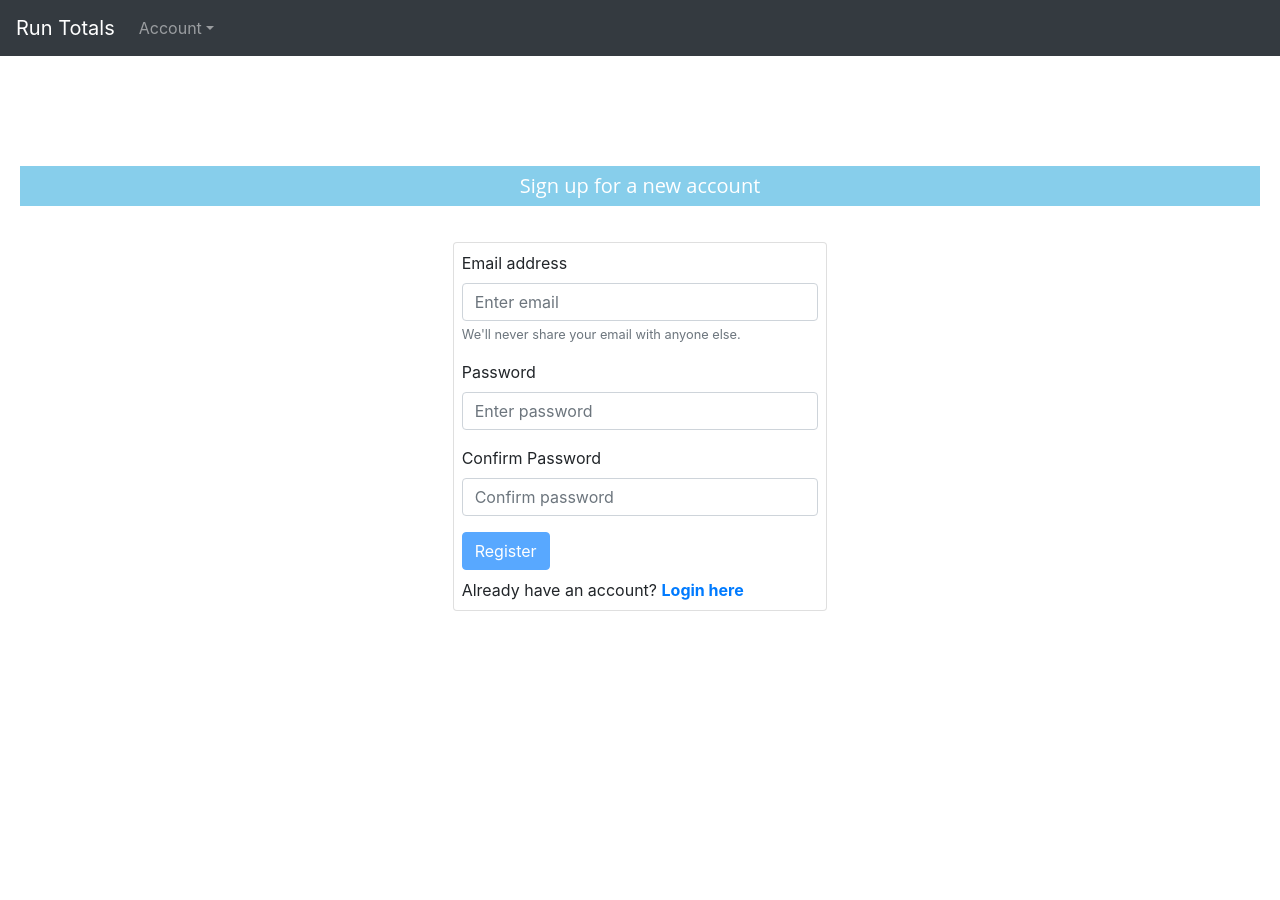
Test case: Register page tests › Server side validation › should show server error message
The width and height of the screenshot is (1280, 900).
Type "valid@email.com" into the field with test id "email-input" at (640, 302), box [462, 283, 818, 321]
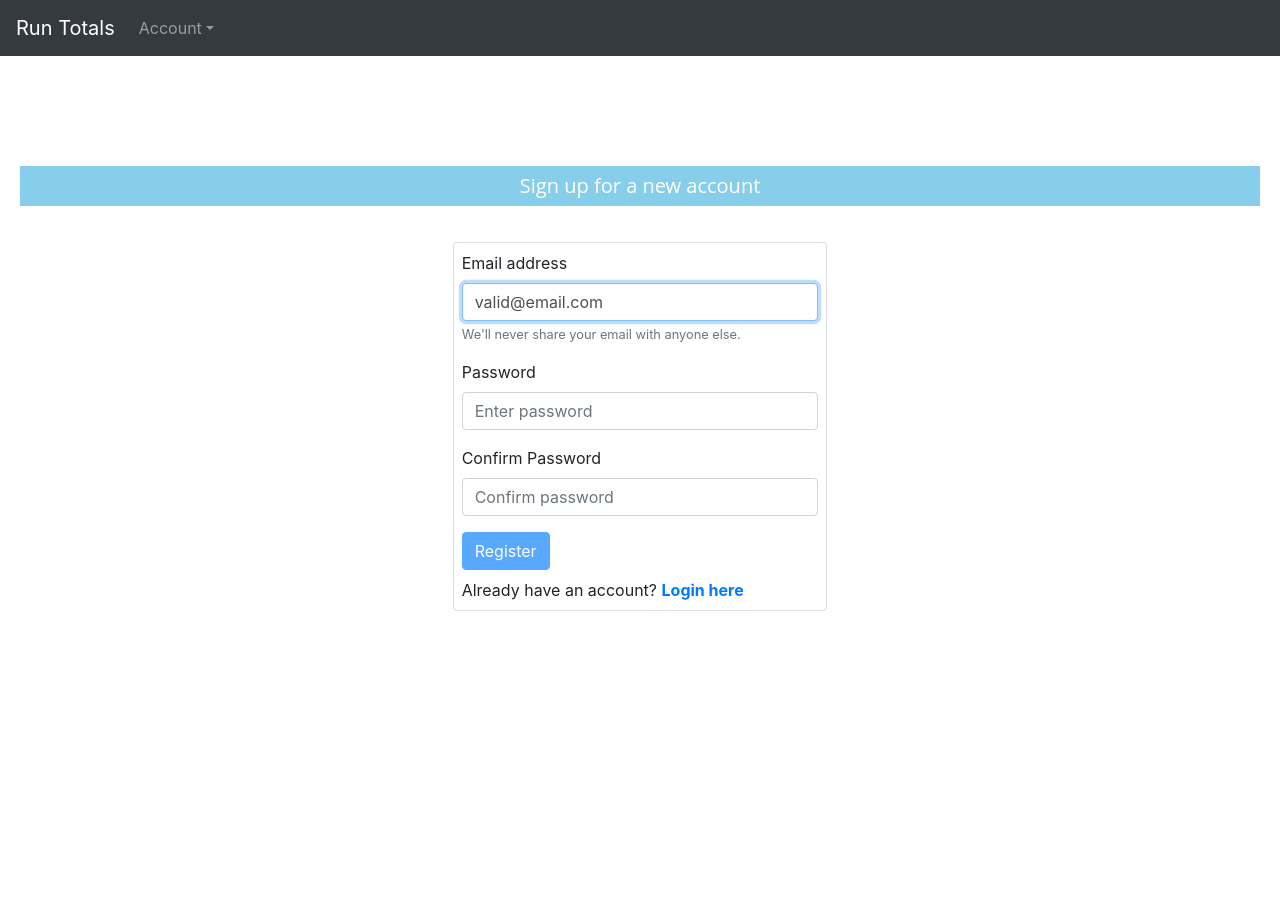
Type "validPassw0rd" into the password field with test id "password-input" at (640, 411), box [462, 392, 818, 430]
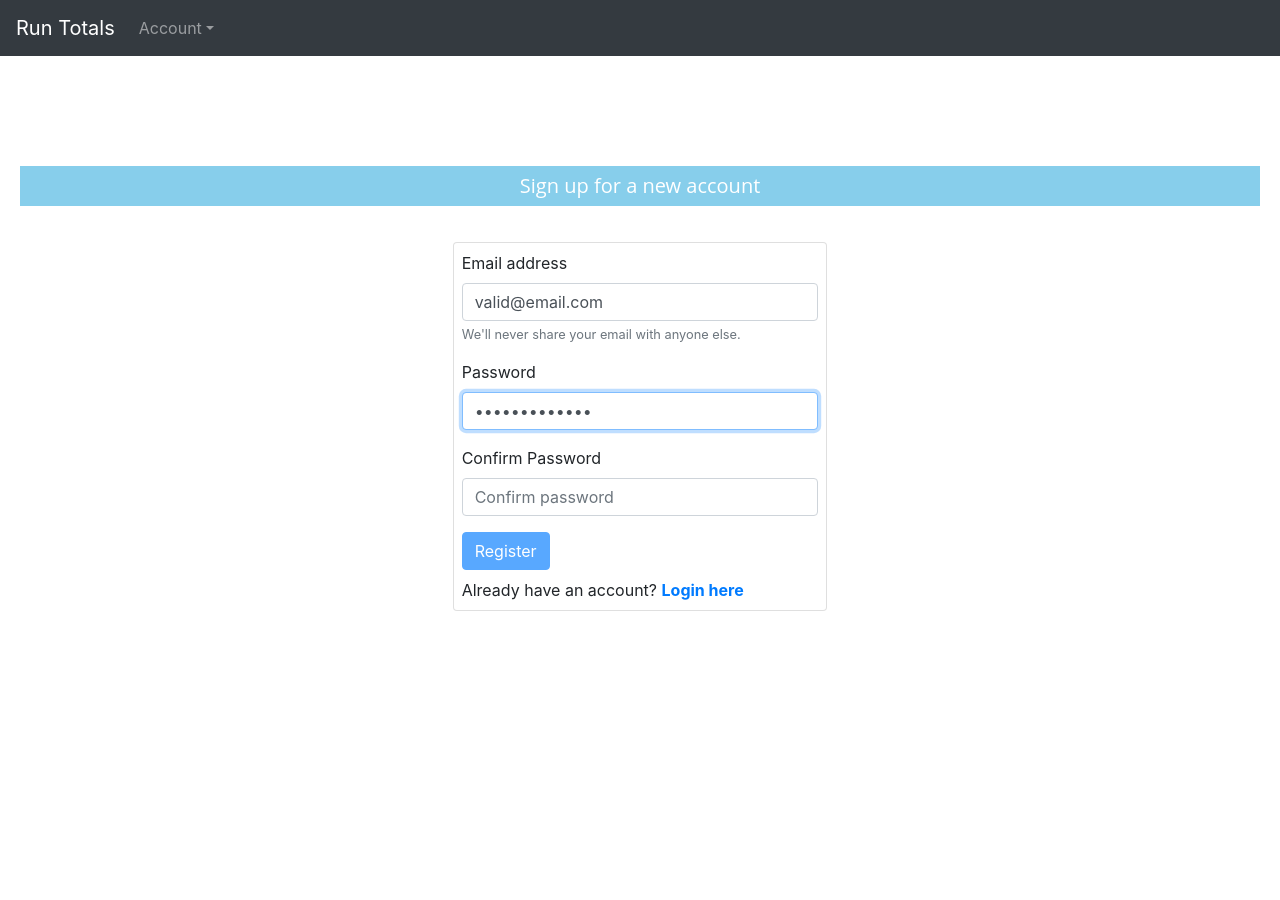
Type "validPassw0rd" into the password field with test id "confirmPassword-input" at (640, 497), box [462, 478, 818, 516]
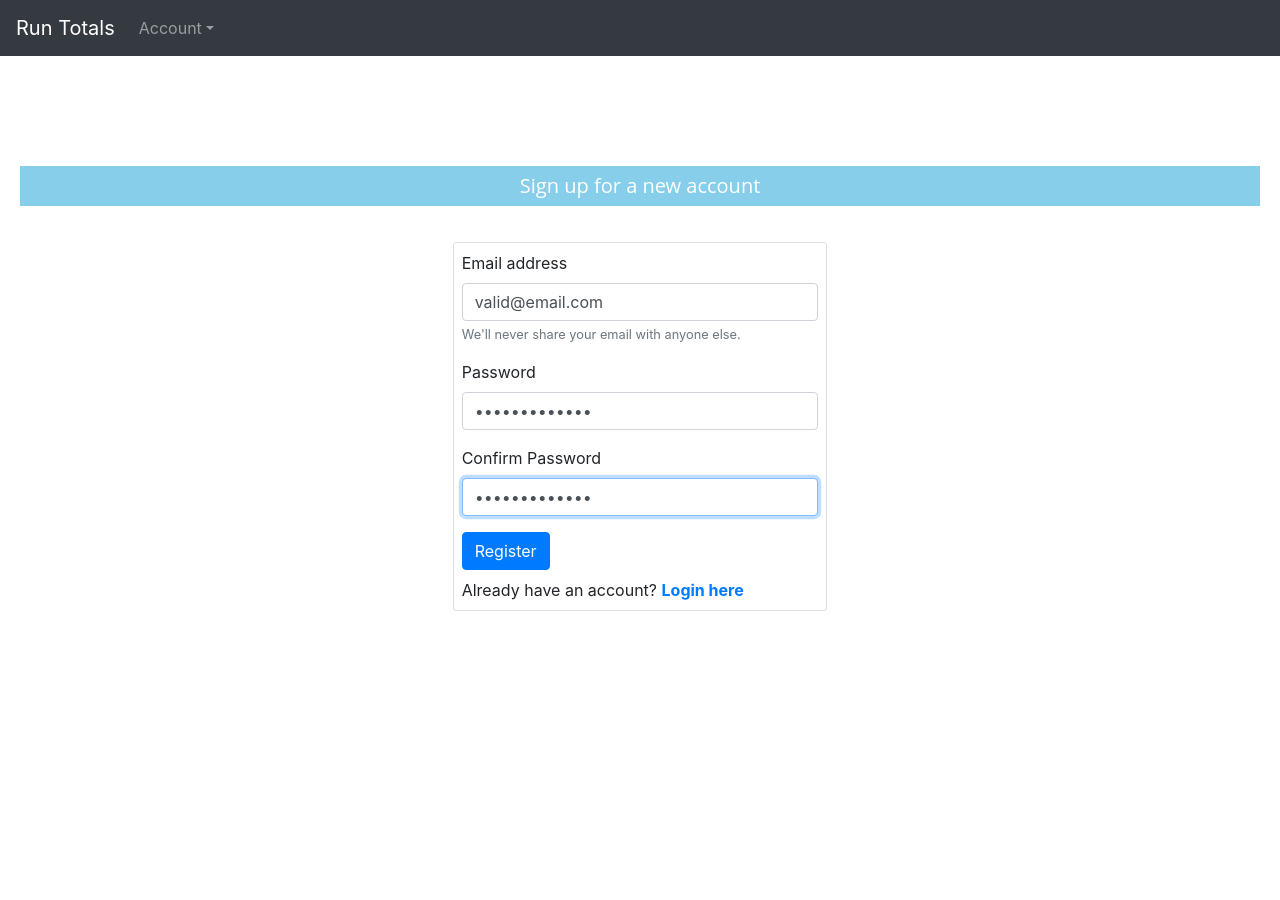
Click the button "Register" at (506, 551), box [462, 532, 550, 570]
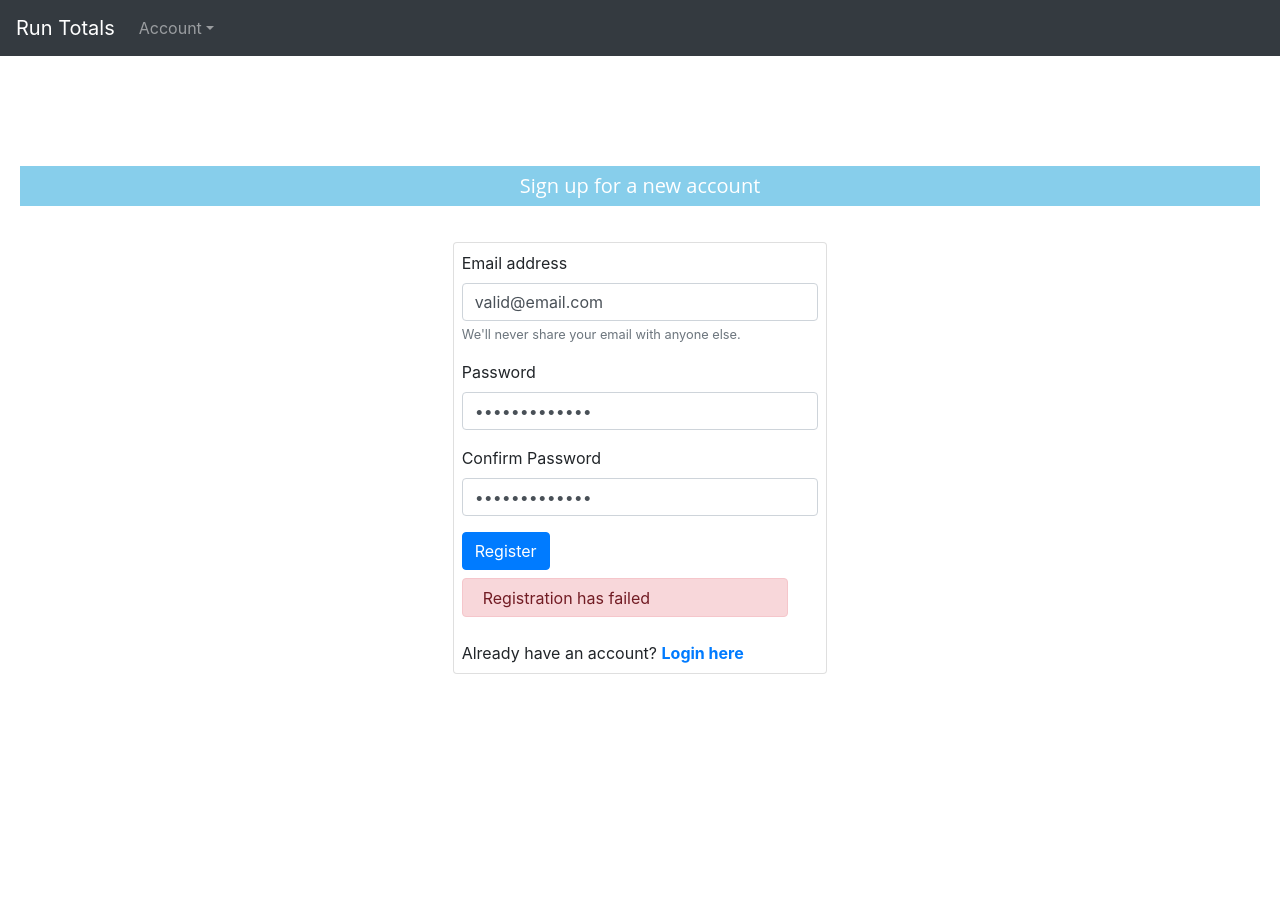
Expected: the message "Registration has failed" is shown, [462, 578, 788, 617]
Expected: the message reads "Registration has failed", [483, 588, 650, 608]
